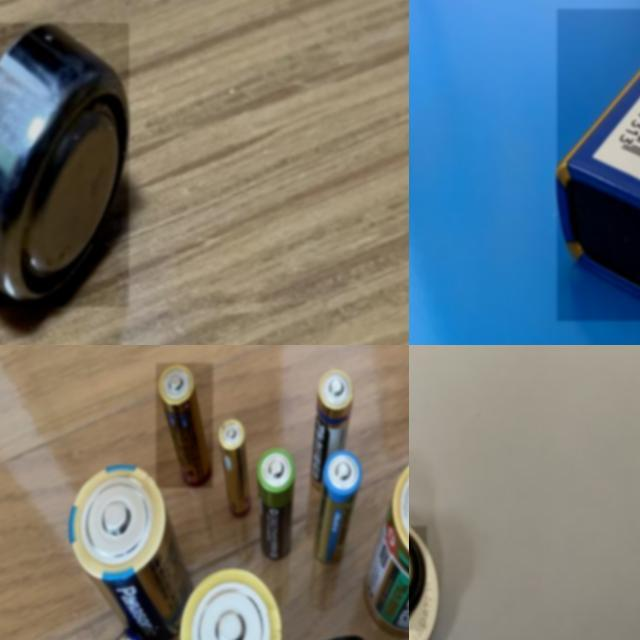9V: (557, 9, 640, 321)
